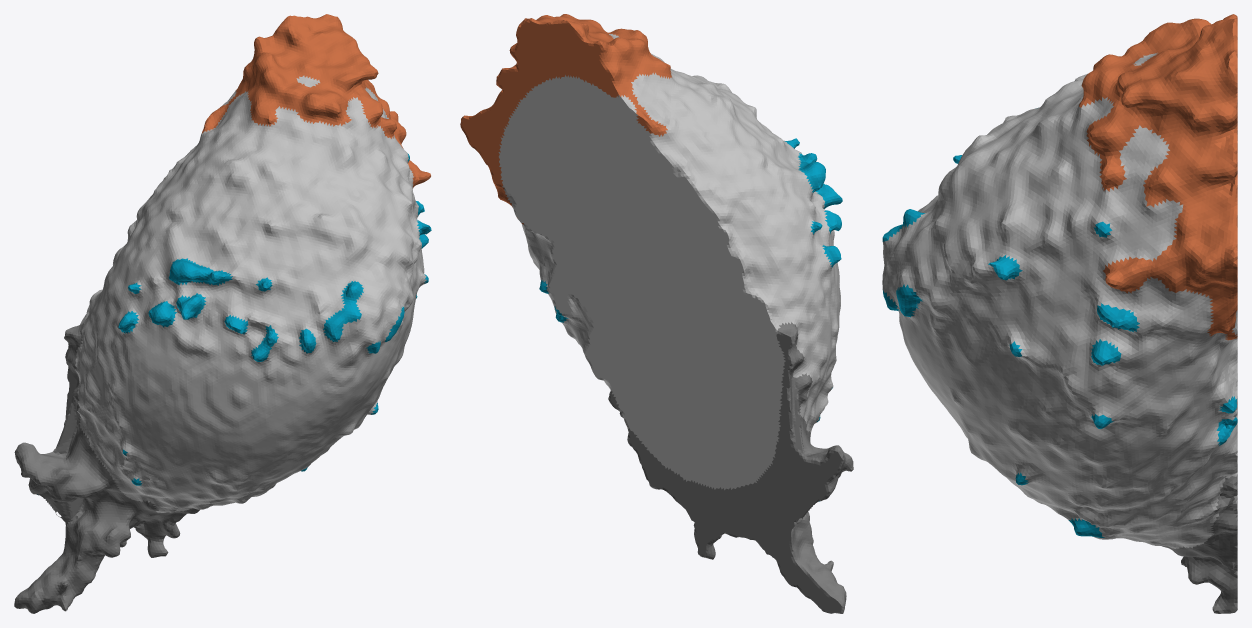
The picture shows the model from 3 angles, left to right: view 1: azimuth 30°, elevation 25°; view 2: azimuth 150°, elevation 25°; view 3: azimuth 270°, elevation 25°; orthographic projection. The views are drawn at different scales.
Bounding box in the file's own units: 120 × 158 × 70.82.
